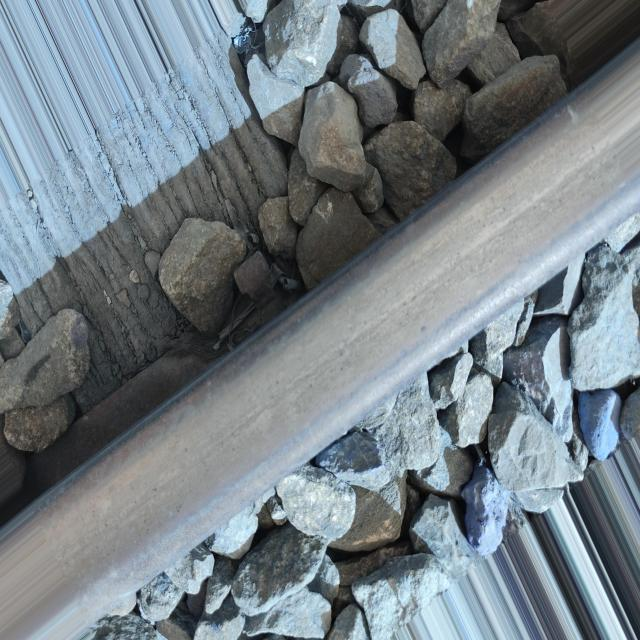non-defective: (2, 37, 638, 638)
